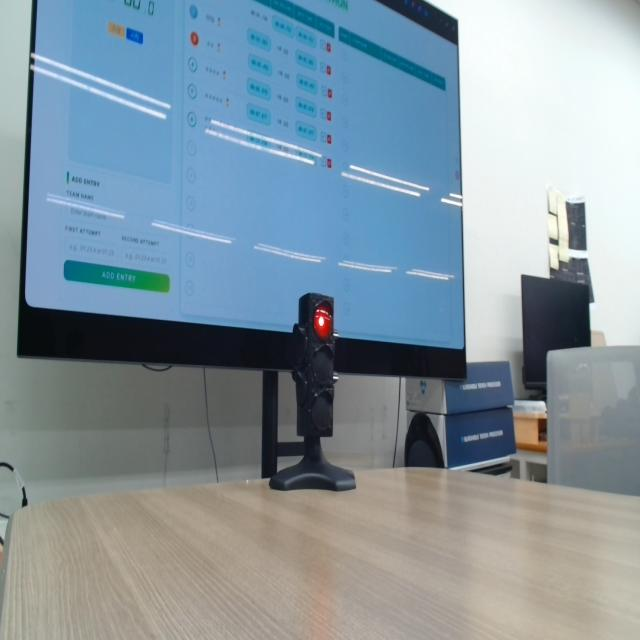red_light: (314, 305, 332, 340), (191, 32, 198, 46)
